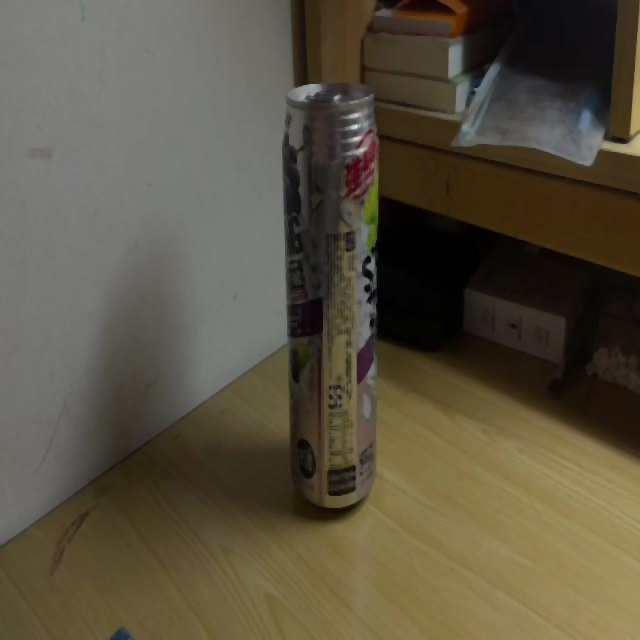Liquor: (282, 81, 379, 512)
